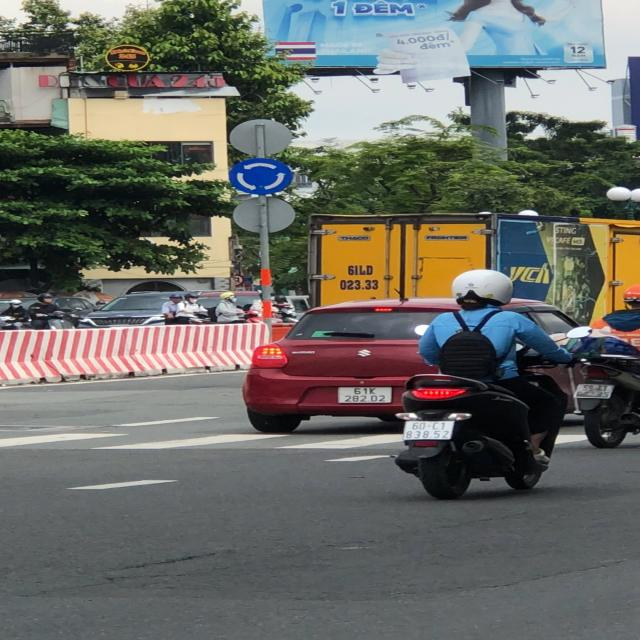Bien bao noi giao nhau chay theo vong xuyen: (227, 157, 300, 195)
